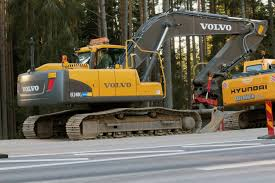excavator: (17, 13, 271, 144)
